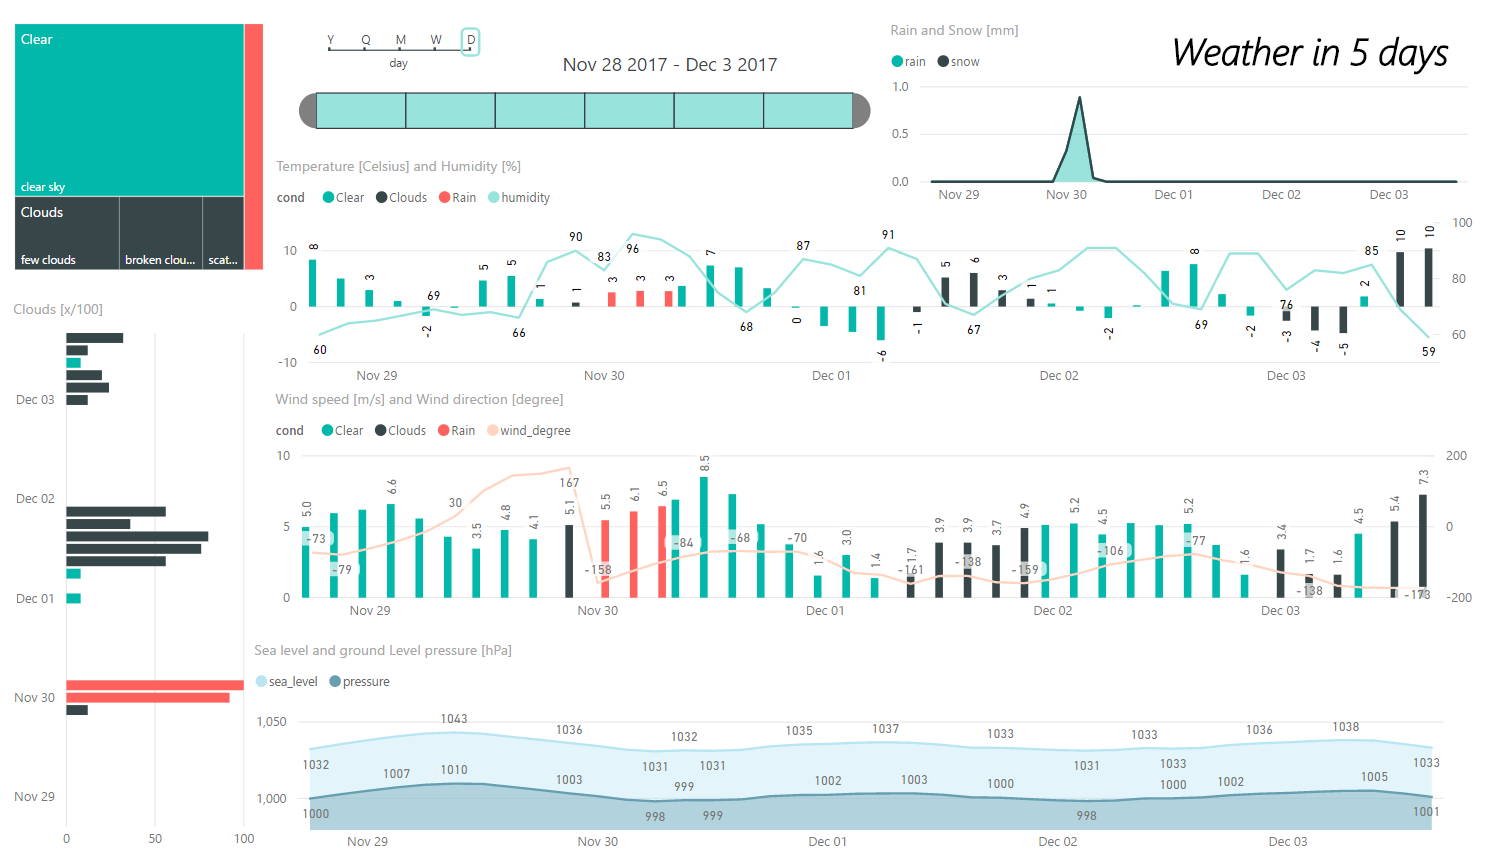

Layout of this report page (visuals, bound fields, positions):
{"tool":"powerbi","page":{"name":"weather forcast","canvas":[1280,720],"ordinal":1},"visuals":[{"type":"lineClusteredColumnComboChart","fields":{"Y2":["Sum(weatherData.humidity)"],"Y":["Sum(weatherData.temperature)"],"Series":["weatherData.cond"],"Category":["weatherData.client_time"]},"box":[236.8,117.6,1030.3,204.8],"z":0},{"type":"treemap","fields":{"Group":["weatherData.cond"],"Details":["weatherData.condition"],"Values":["CountNonNull(weatherData.condition)"]},"box":[13.7,0,222.9,219.4],"z":6},{"type":"stackedAreaChart","fields":{"Category":["weatherData.client_time"],"Y":["Sum(weatherData.rain)","Sum(weatherData.snow)"]},"box":[760.8,1.6,509.8,166.3],"z":8},{"type":"textbox","box":[1000.1,0,279.9,59.4],"z":9},{"type":"lineClusteredColumnComboChart","fields":{"Y":["Sum(weatherData.wind_speed)"],"Y2":["Sum(weatherData.wind_degree)"],"Series":["weatherData.cond"],"Category":["weatherData.client_time"]},"box":[236,316.4,1031.2,206.6],"z":2000},{"type":"areaChart","fields":{"Category":["weatherData.client_time"],"Y":["Sum(weatherData.sea_level)","Sum(weatherData.pressure)"]},"box":[218.7,530.7,1030.3,189.3],"z":3000},{"type":"Timeline1447991079100","fields":{"Time":["weatherData.client_time"]},"box":[255.7,0,512.9,120.8],"z":4000},{"type":"barChart","fields":{"Y":["Sum(weatherData.clouds)"],"Series":["weatherData.cond"],"Category":["weatherData.client_time"]},"box":[12.8,239.6,215.7,477.5],"z":5000}]}

Visuals, with their boxes in screenshot pixels (x1, y1, x2, y2), scaled from the page's 1280x720 canvas onto the 1492x860 screenshot:
lineClusteredColumnComboChart - Sum(weatherData.humidity) x Sum(weatherData.temperature): (276, 140, 1477, 385)
treemap - weatherData.cond x weatherData.condition: (16, 0, 276, 262)
stackedAreaChart - weatherData.client_time x Sum(weatherData.rain): (887, 2, 1481, 201)
textbox: (1166, 0, 1491, 71)
lineClusteredColumnComboChart - Sum(weatherData.wind_speed) x Sum(weatherData.wind_degree): (275, 378, 1477, 625)
areaChart - weatherData.client_time x Sum(weatherData.sea_level): (255, 634, 1456, 859)
Timeline1447991079100 - weatherData.client_time: (298, 0, 896, 144)
barChart - Sum(weatherData.clouds) x weatherData.cond: (15, 286, 266, 857)
